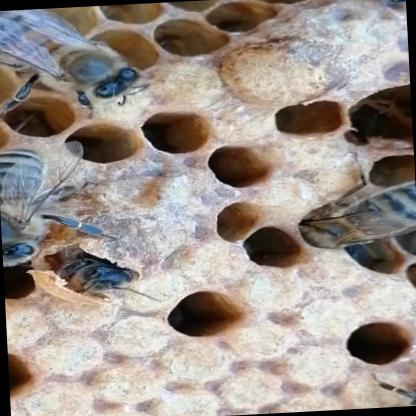bee: (0, 0, 205, 127), (0, 130, 150, 273), (286, 162, 416, 293), (341, 368, 416, 409)
